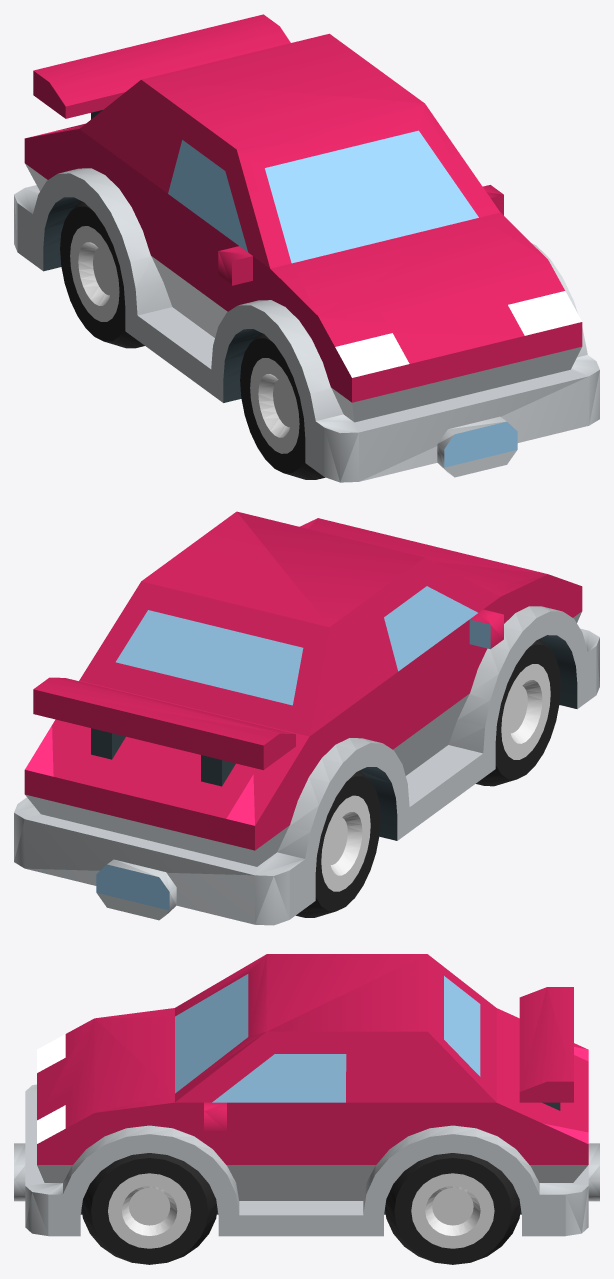
File: looktest_kenney.glb
3 renders of one model, top to bottom at view 1: azimuth 30°, elevation 25°; view 2: azimuth 150°, elevation 25°; view 3: azimuth 270°, elevation 25°, orthographic. The views are drawn at different scales.
Parts seen in each view (by area): view 1: LuluCar_body, Wheel_FR, Wheel_RR; view 2: LuluCar_body, Wheel_FR, Wheel_RR; view 3: LuluCar_body, Wheel_FL, Wheel_RL.
Boxes of the visible parts, box(x1,y1,x2,y2) form: LuluCar_body: box(14, 14, 599, 482); Wheel_FR: box(240, 333, 325, 479); Wheel_RR: box(60, 201, 144, 348); LuluCar_body: box(14, 511, 599, 925); Wheel_FR: box(476, 639, 560, 786); Wheel_RR: box(296, 770, 380, 917); LuluCar_body: box(14, 954, 599, 1236); Wheel_FL: box(81, 1153, 217, 1264); Wheel_RL: box(385, 1153, 520, 1264).
Bounding box in the file's own units: 1.82 × 1.74 × 4.03.
